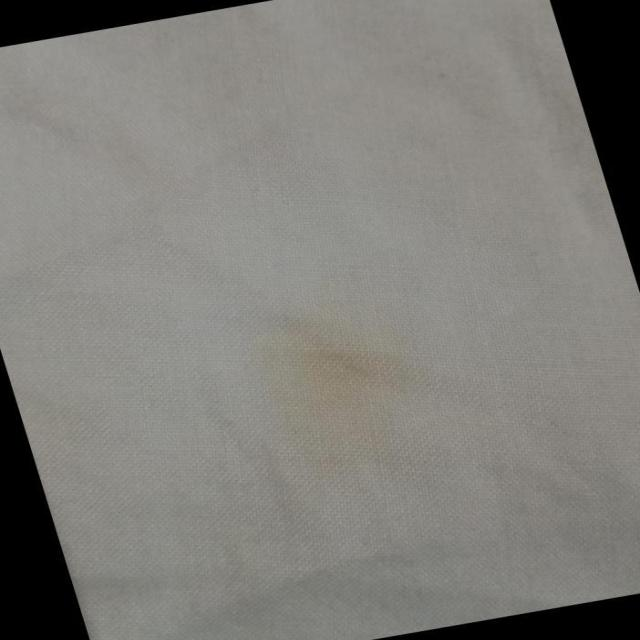stain: (226, 283, 442, 477)
